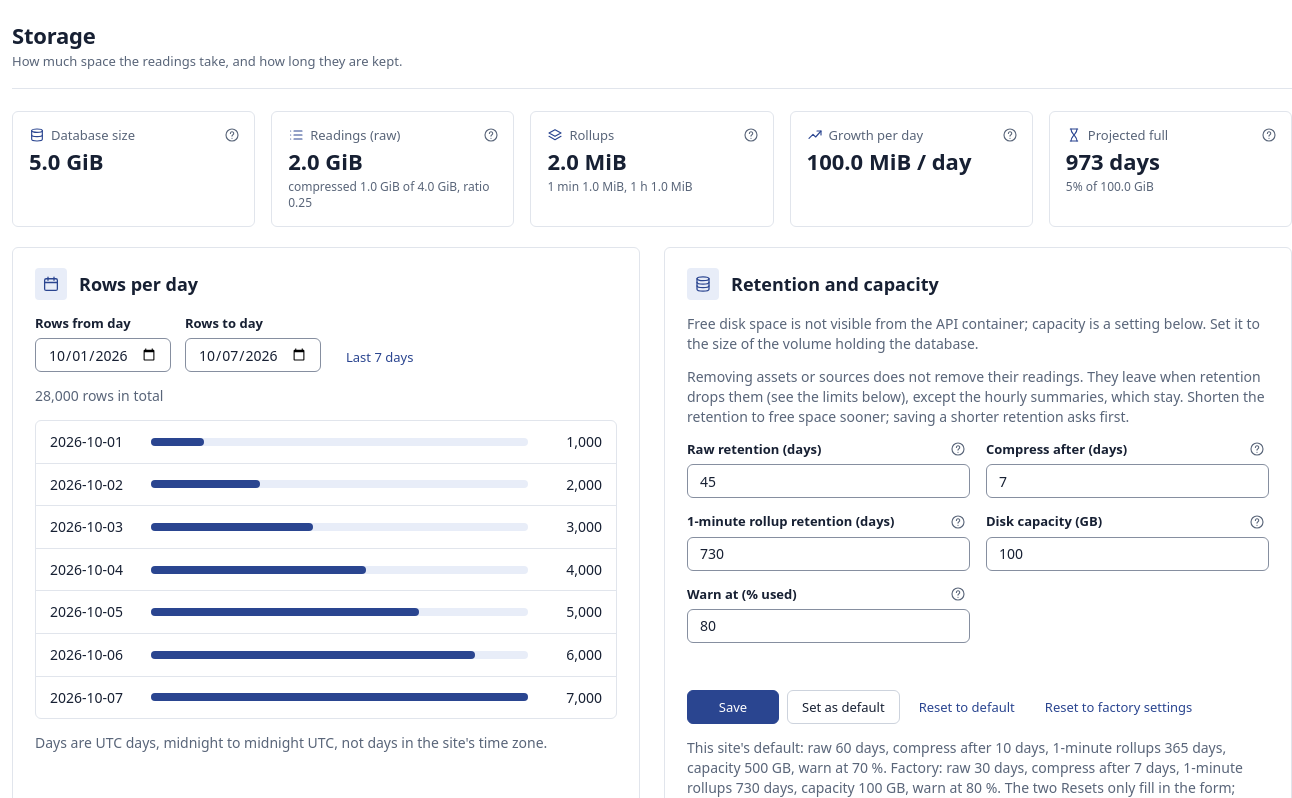
Scenario: StoragePage defaults, resets and the confirmation › Reset to factory settings fills the form with the factory values and sends nothing
Expected: the number field labelled "Raw retention (days)" holds "45", [687, 464, 970, 498]
Click the button "Reset to factory settings": (1119, 707) [1034, 692, 1203, 722]
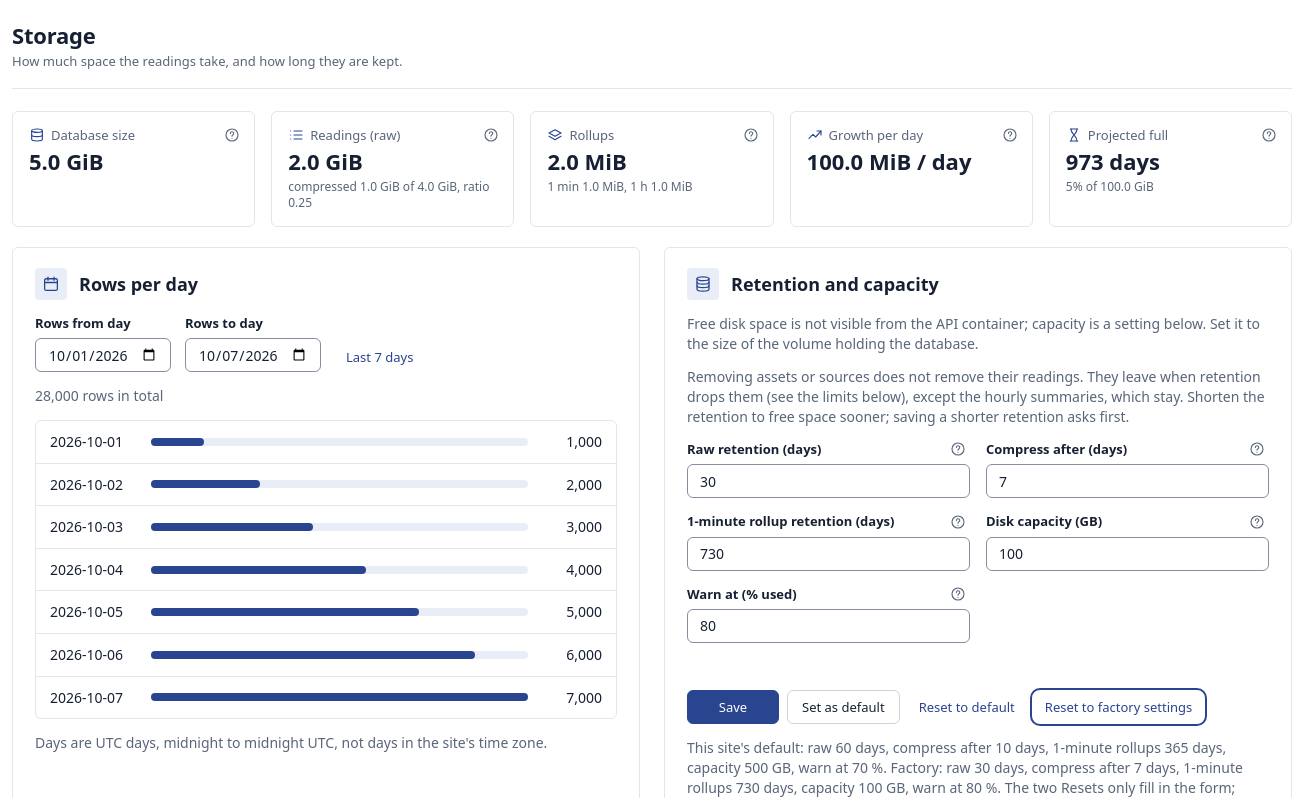
Now the number field labelled "Raw retention (days)" holds "30", box [687, 464, 970, 498]
